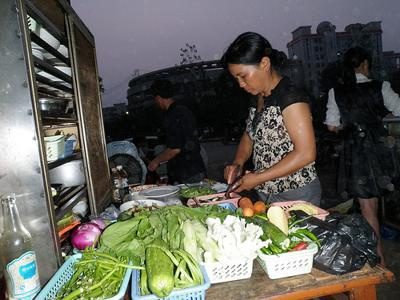person: (219, 31, 323, 209)
